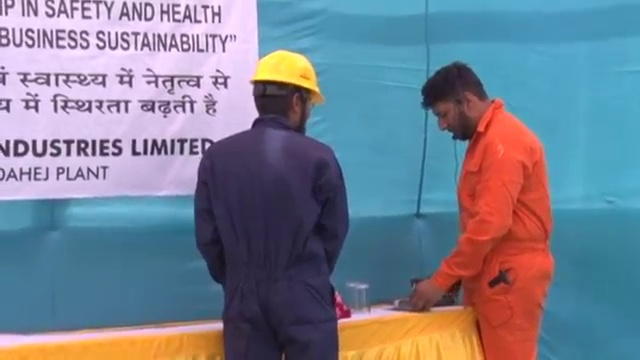helmet: (248, 49, 324, 104)
helmet_off: (417, 60, 496, 143)
helmet_on: (246, 49, 326, 132)
person: (191, 49, 351, 360), (415, 59, 556, 360)
